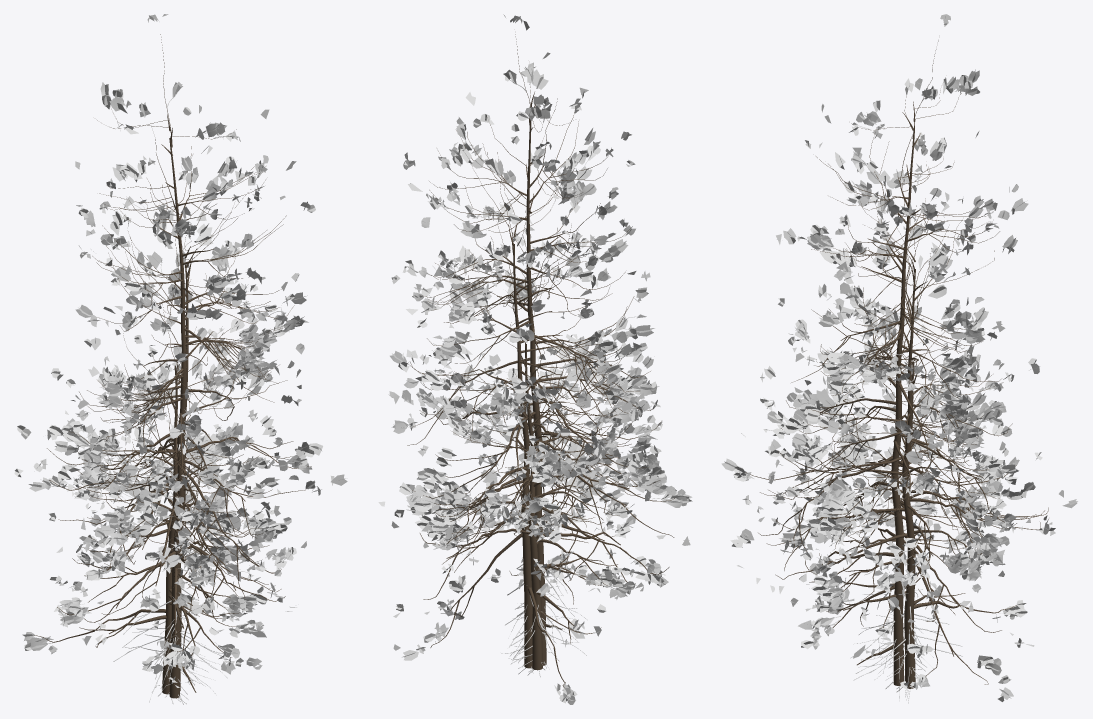
Rendered from pine_sapling_medium.fbx.
3 renders of one model, left to right at view 1: azimuth 30°, elevation 25°; view 2: azimuth 150°, elevation 25°; view 3: azimuth 270°, elevation 25°, orthographic.
Visible parts, largest first — view 1: pine_sapling_medium_a, pine_sapling_medium_b, pine_sapling_medium_c; view 2: pine_sapling_medium_a, pine_sapling_medium_b, pine_sapling_medium_c; view 3: pine_sapling_medium_a, pine_sapling_medium_b, pine_sapling_medium_c.
Part boxes in pixels (x1=…): pine_sapling_medium_a: x1=14, y1=14, x2=322, y2=704; pine_sapling_medium_b: x1=17, y1=155, x2=347, y2=700; pine_sapling_medium_c: x1=50, y1=271, x2=287, y2=703; pine_sapling_medium_a: x1=391, y1=14, x2=692, y2=671; pine_sapling_medium_b: x1=378, y1=117, x2=676, y2=704; pine_sapling_medium_c: x1=415, y1=240, x2=646, y2=677; pine_sapling_medium_a: x1=757, y1=14, x2=1042, y2=700; pine_sapling_medium_b: x1=721, y1=152, x2=1077, y2=703; pine_sapling_medium_c: x1=790, y1=285, x2=1009, y2=700.
Bounding box in the file's own units: 1.12 × 2.6 × 1.24.
